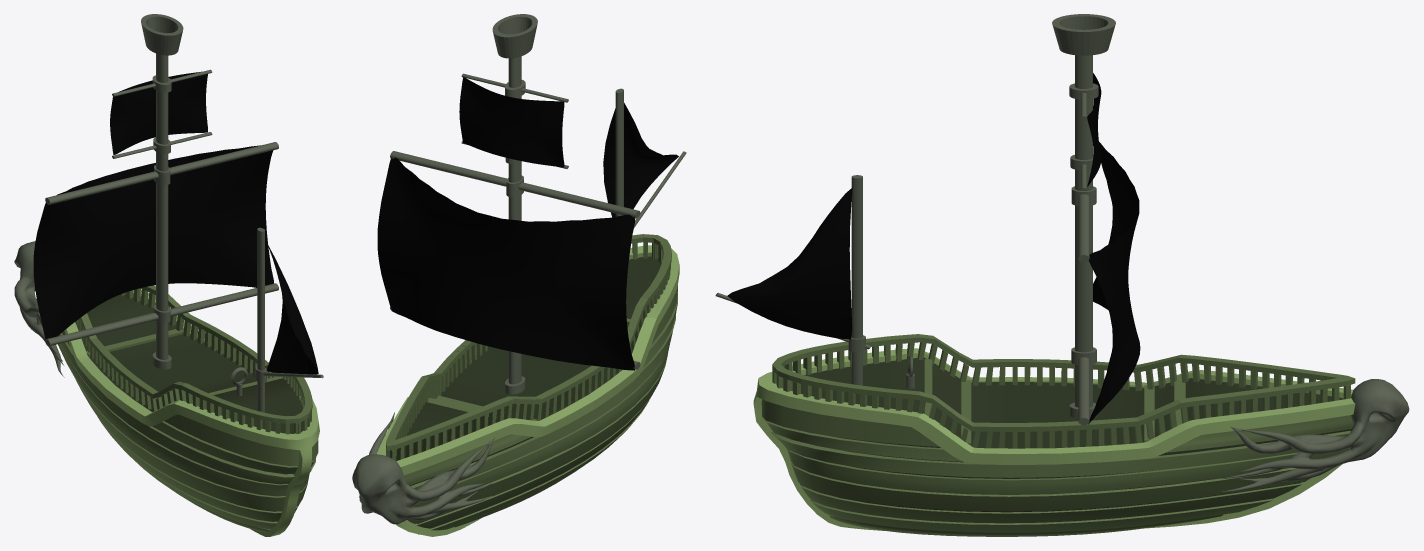
File: Ship1.fbx
3 views of the same model, side by side, from view 1: azimuth 30°, elevation 25°; view 2: azimuth 150°, elevation 25°; view 3: azimuth 270°, elevation 25° (orthographic). The views are drawn at different scales.
Visible parts, largest first — view 1: PlayerShip; view 2: PlayerShip; view 3: PlayerShip.
Boxes of the visible parts, bbox=[...] form: PlayerShip: bbox=[14, 14, 323, 536]; PlayerShip: bbox=[352, 14, 686, 536]; PlayerShip: bbox=[715, 14, 1409, 536].
Bounding box in the file's own units: 2.47 × 4.47 × 5.55.
